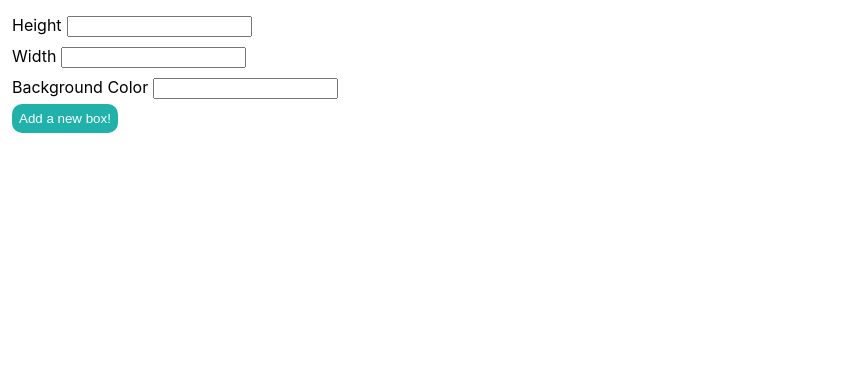
Test: can add a new box
Type "red" into the field labelled "Background Color" at {"x": 246, "y": 88}, box [153,78,338,99]
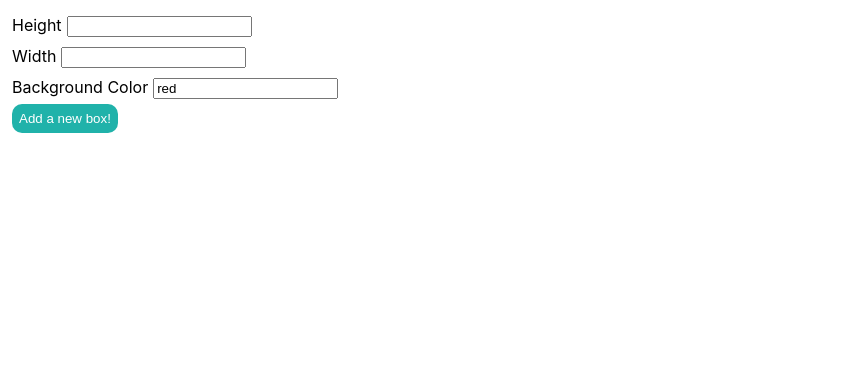
Type "200" into the field labelled "Width" at {"x": 154, "y": 58}, box [61,47,246,68]
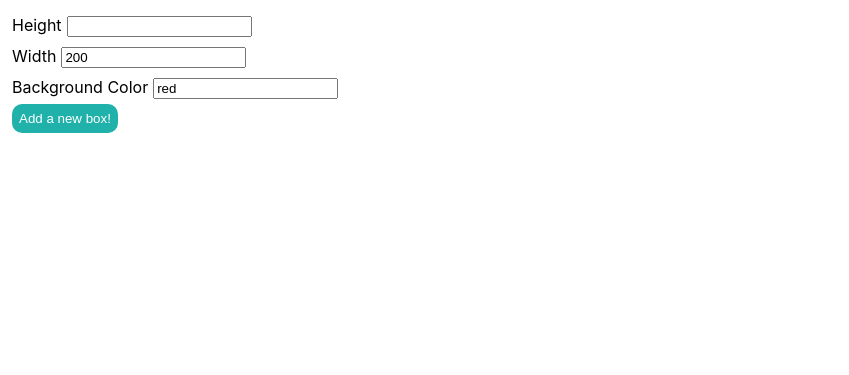
Type "200" into the field labelled "Height" at {"x": 159, "y": 26}, box [67,16,252,37]
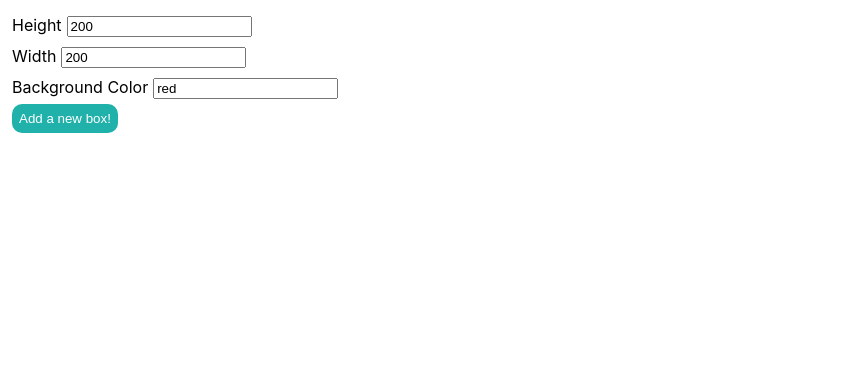
Click the button "Add a new box!" at {"x": 65, "y": 118}, box [12,104,118,133]
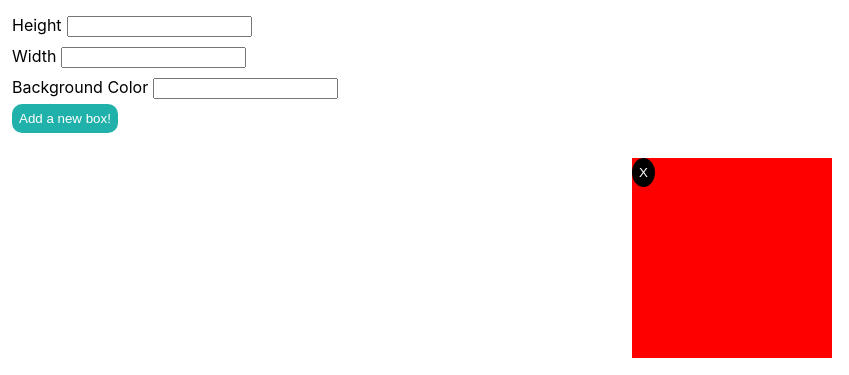
Expected: the number of fields is 3, [67,16,252,37]; [61,47,246,68]; [153,78,338,99]
Expected: the button "X" is shown, [632,158,655,187]
